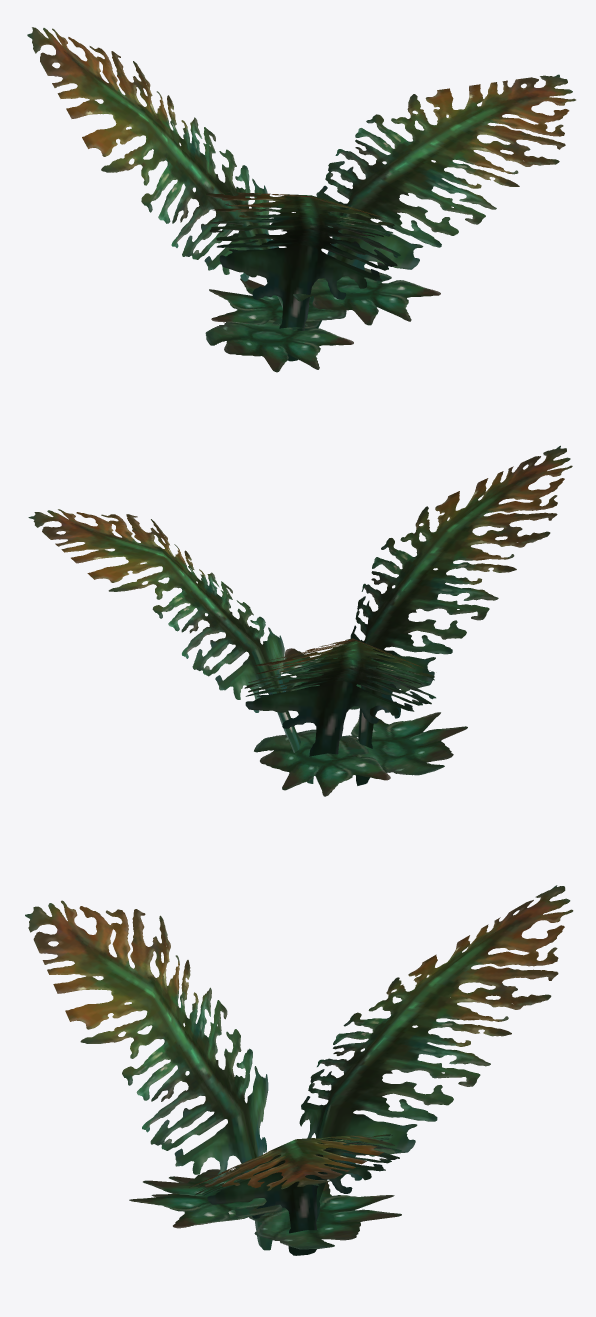
Rendered from stemple_fern_blank_05.fbx.
3 views of the same model, one above another, from view 1: azimuth 30°, elevation 25°; view 2: azimuth 150°, elevation 25°; view 3: azimuth 270°, elevation 25° (orthographic). The views are drawn at different scales.
Visible parts, largest first — view 1: sunken_tileset/sunken_plants01_mat; view 2: sunken_tileset/sunken_plants01_mat; view 3: sunken_tileset/sunken_plants01_mat.
Part boxes in pixels (<box>): sunken_tileset/sunken_plants01_mat: <box>27,27,575,372</box>; sunken_tileset/sunken_plants01_mat: <box>28,445,572,796</box>; sunken_tileset/sunken_plants01_mat: <box>25,885,573,1255</box>.
Size of the model in its own units: 1.87 by 1.29 by 1.83.
